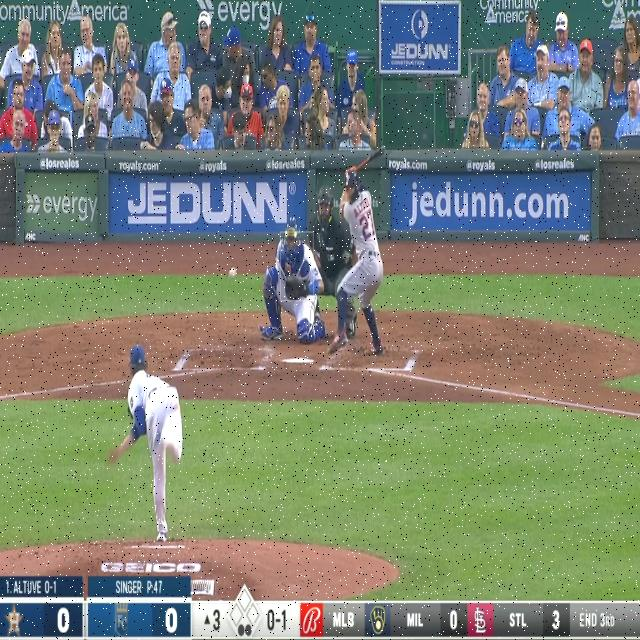baseball: (228, 266, 237, 280)
